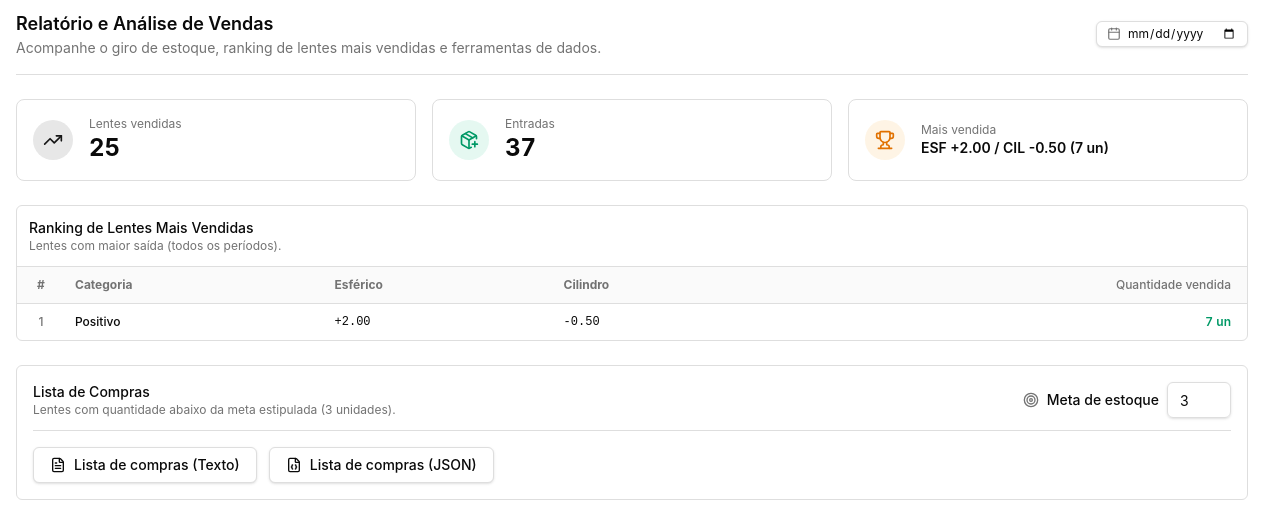
it: ReportView › filters periods by date using the dd/mm/aaaa date selector
Expected: the text "Entradas" is shown, 505,116 -> 555,132
# Filter by specific day (2026-10-21)
Type "2026-10-21" into the date field named "Selecionar data" at [1182, 34], box 1127,26 -> 1237,42
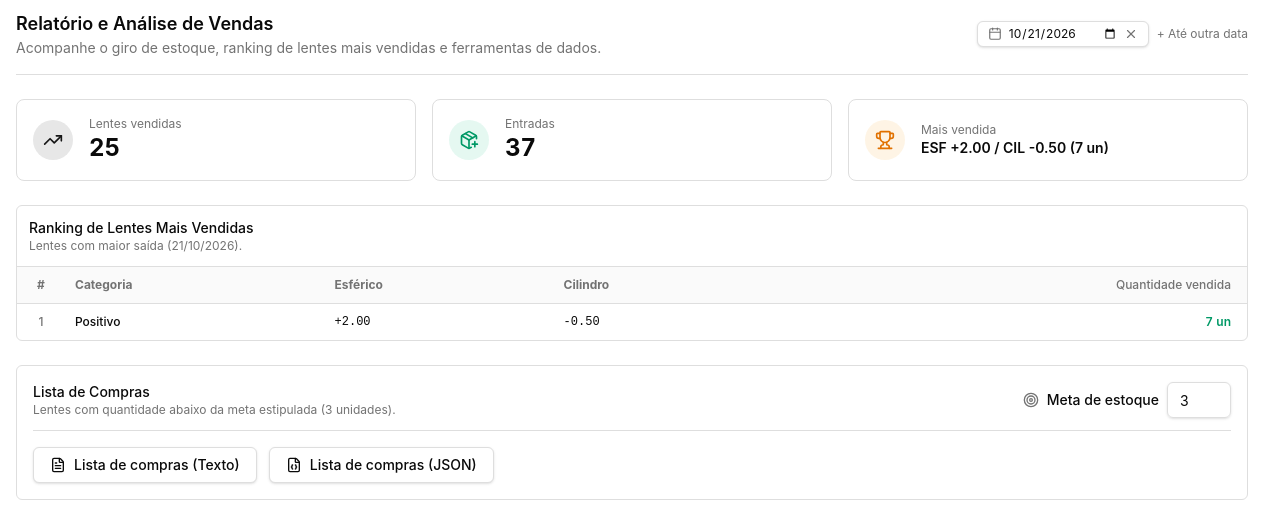
Now the text "Lentes com maior saída (21/10/2026)." is shown, box 29,238 -> 242,253
# Add end date
Click the button "+ Até outra data" at [1202, 34], box 1157,26 -> 1248,42
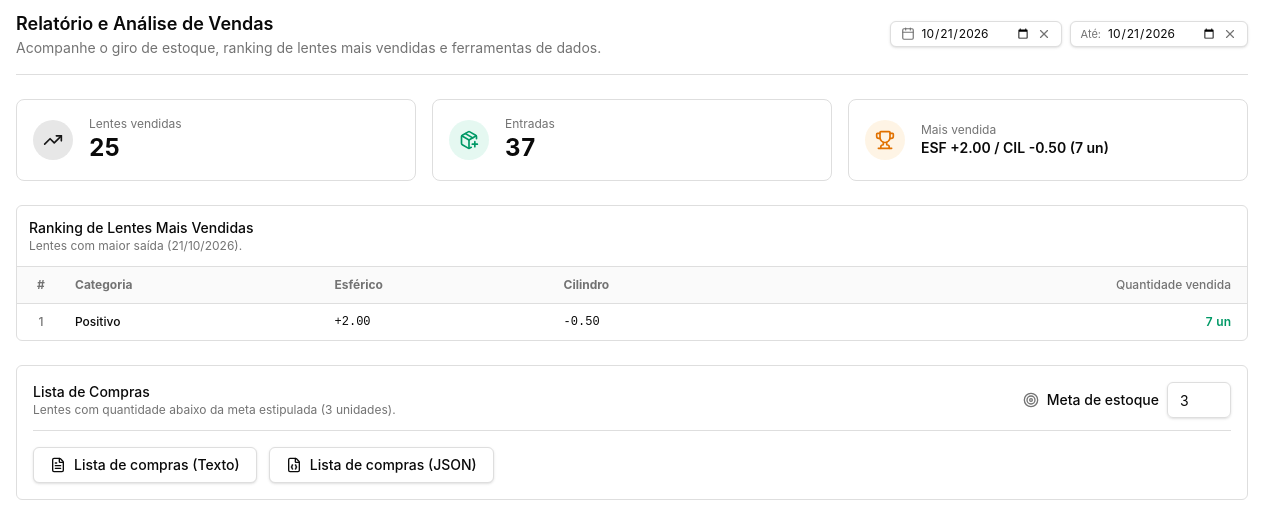
Type "2026-10-25" into the date field named "Data final" at [1162, 34], box 1107,26 -> 1217,42
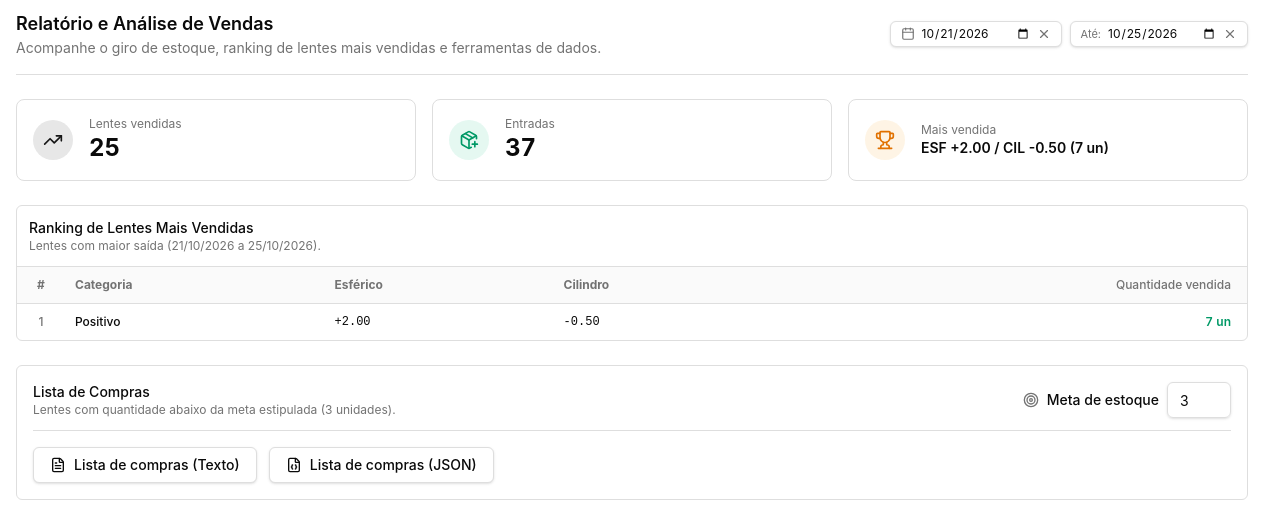
Now the text "Lentes com maior saída (21/10/2026 a 25/10/2026)." is shown, box 29,238 -> 321,253
# Clear filter
Click the button named "Limpar filtro de data" at [1044, 34], box 1036,27 -> 1050,41
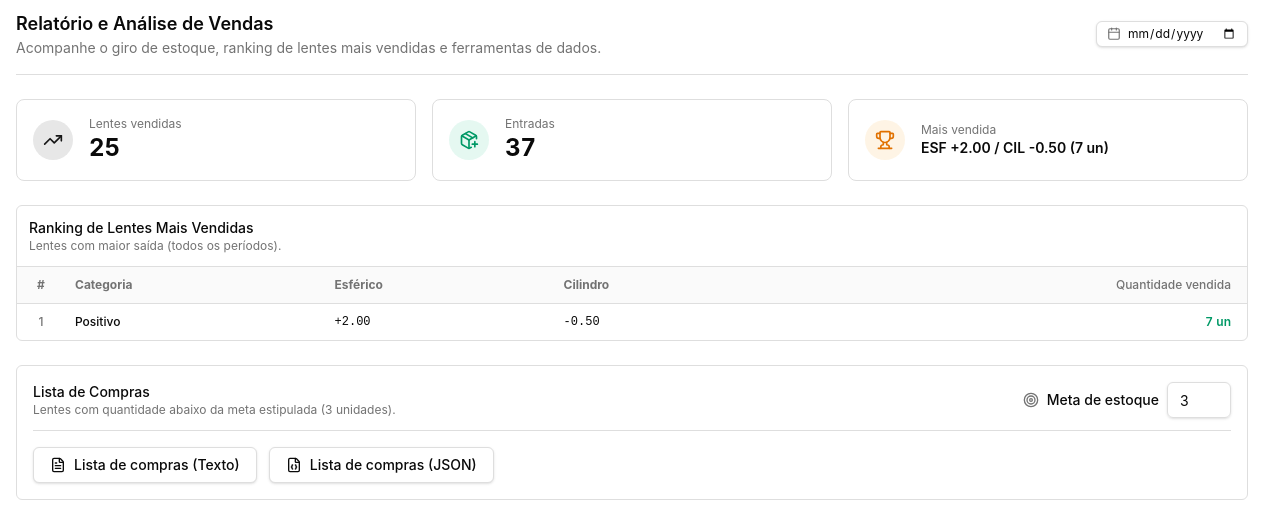
Now the text "Lentes com maior saída (todos os períodos)." is shown, box 29,238 -> 281,253
